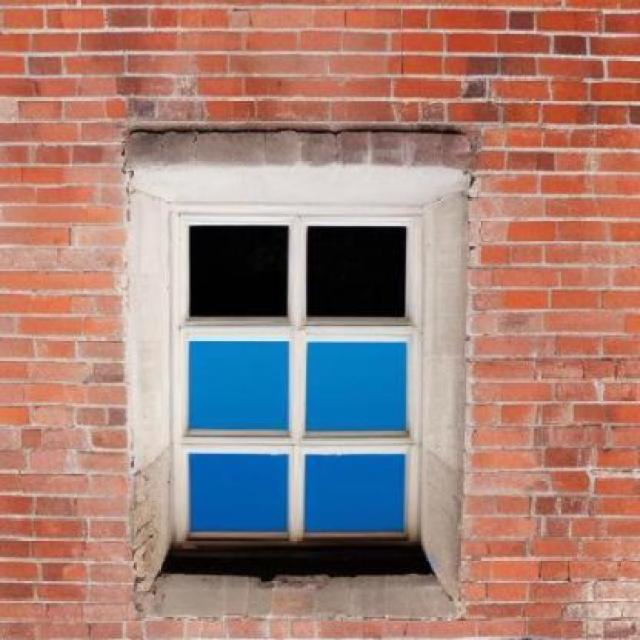window: (126, 172, 469, 619)
